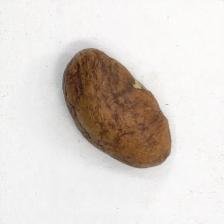NG: (127, 68, 150, 97)
